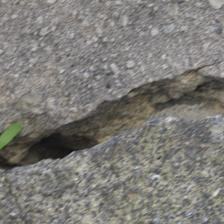Crack: (4, 32, 217, 145)
